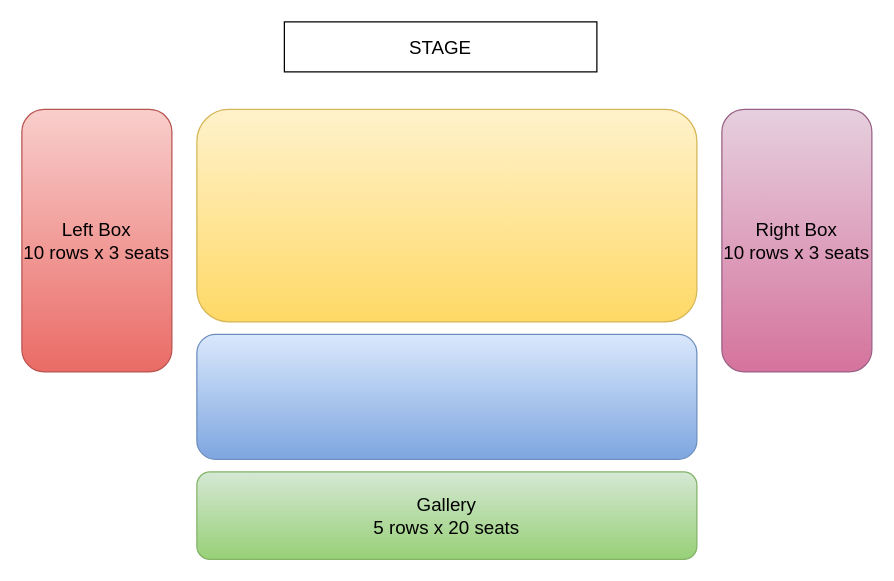
Image size: 894x581. Some labels were removed from this diagram. Here are the shapes that lost their labels. From the top down, the box of each, then its label:
(196, 108, 697, 322): Stalls 12 rows x 20 seats
(196, 333, 697, 459): Amphitheatre 8 rows x 20 seats
